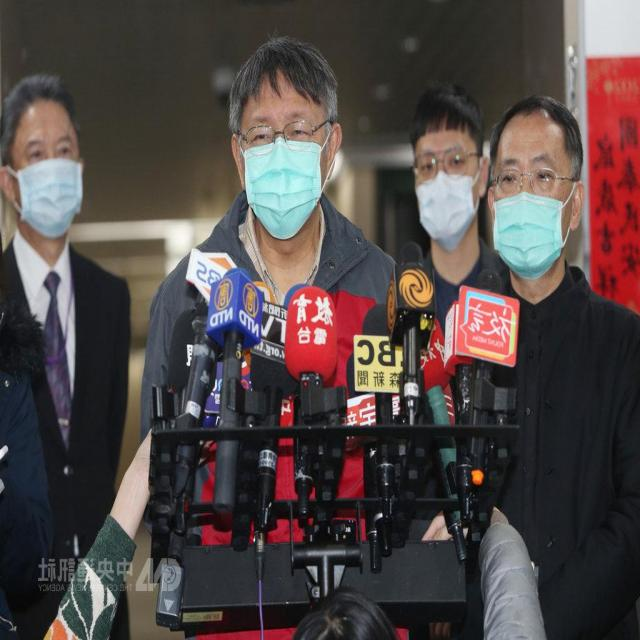face: (234, 68, 337, 245), (487, 110, 579, 278), (1, 97, 84, 247), (412, 107, 482, 254)
